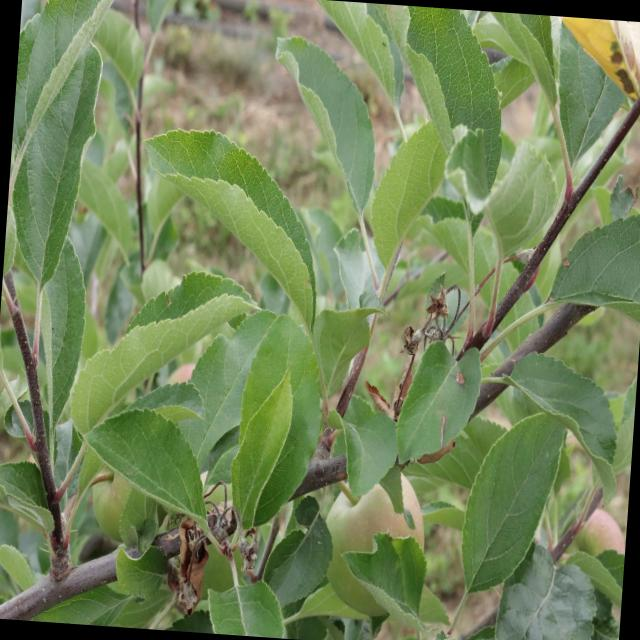-FireBlight-: (359, 328, 424, 428), (172, 517, 211, 601)
